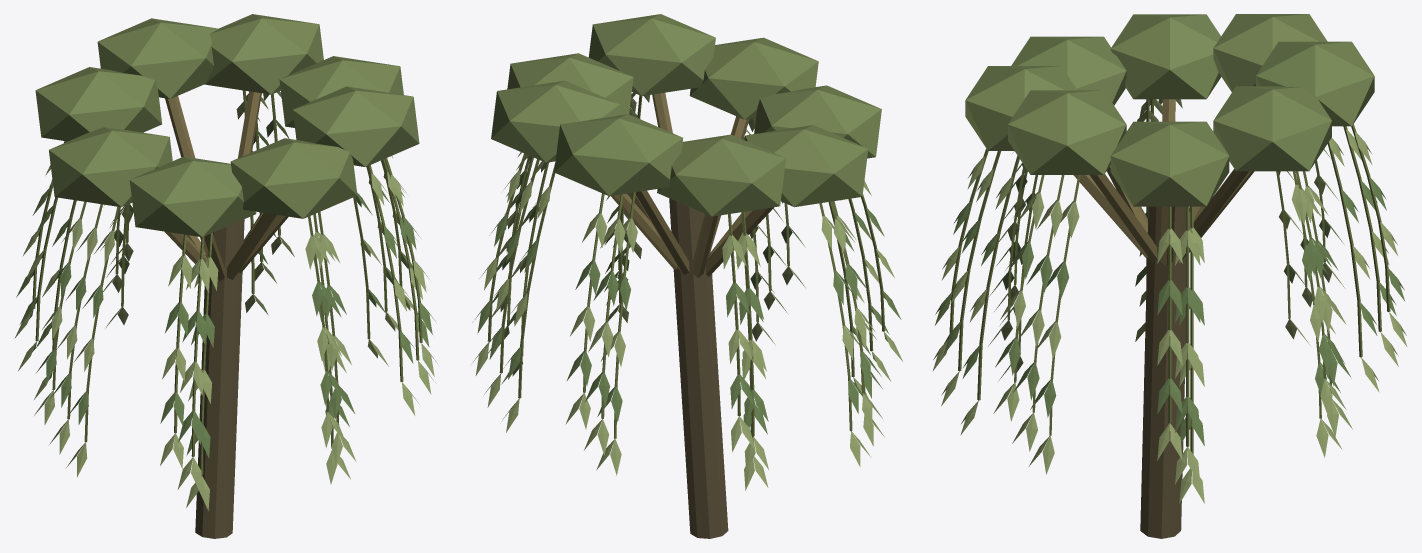
Rendered from nature-willow.glb.
The picture shows the model from 3 angles, left to right: view 1: azimuth 30°, elevation 25°; view 2: azimuth 150°, elevation 25°; view 3: azimuth 270°, elevation 25°; orthographic projection. The views are drawn at different scales.
Visible parts, largest first — view 1: SculptedModel; view 2: SculptedModel; view 3: SculptedModel.
Part boxes in pixels (bbox=[...]): SculptedModel: bbox=[14, 14, 437, 538]; SculptedModel: bbox=[472, 14, 902, 538]; SculptedModel: bbox=[932, 14, 1407, 538].
Size of the model in its own units: 2.47 by 2.84 by 2.47.
